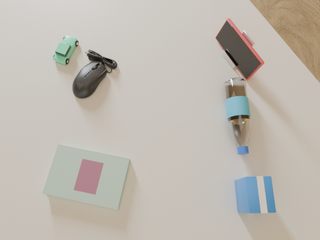book: (43, 144, 130, 210)
bottle: (224, 77, 251, 154)
box: (235, 176, 276, 213)
mouse: (73, 50, 117, 98)
phone: (216, 18, 264, 80)
toy_car: (53, 35, 78, 64)
